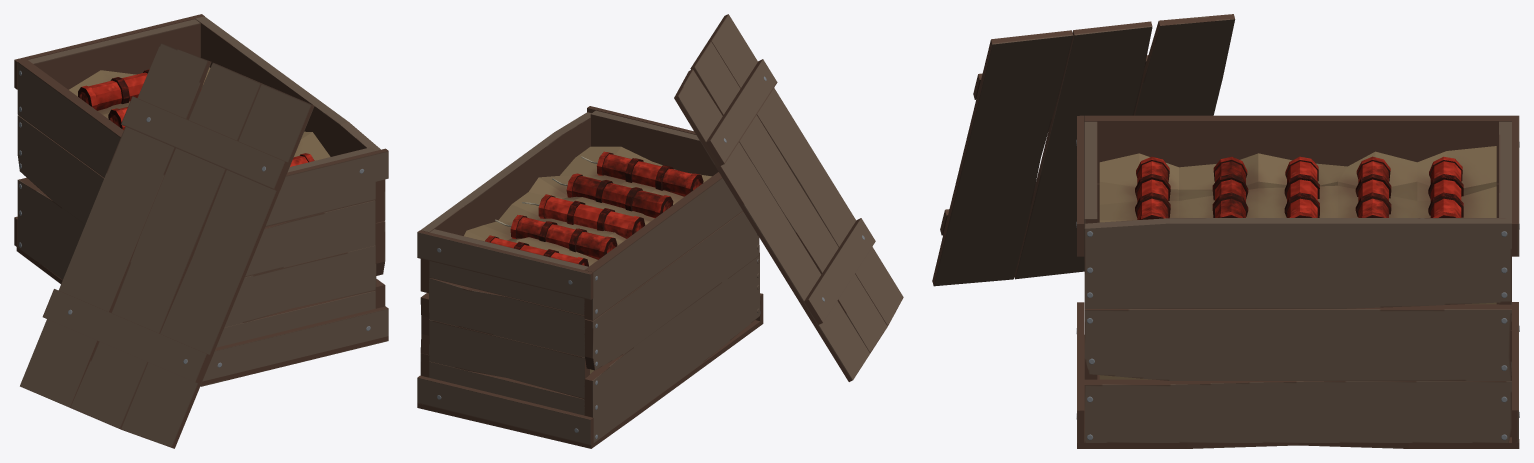
The model's file is Crate_LidPropped.fbx.
3 renders of one model, left to right at view 1: azimuth 30°, elevation 25°; view 2: azimuth 150°, elevation 25°; view 3: azimuth 270°, elevation 25°, orthographic. The views are drawn at different scales.
Visible parts, largest first — view 1: Lid.001, Side_02.003, Side_03.003, Side_01.003, Side_04.003, TNT.002, Hay.003, Crate.003; view 2: Lid.001, Side_04.003, Side_03.003, Side_01.003, Hay.003, Side_02.003, polySurface18.014, polySurface18.013, polySurface18.012, polySurface18.011, Crate.003, TNT.002; view 3: Side_01.003, Lid.001, Side_03.003, Hay.003, Side_02.003, Side_04.003, Crate.003, polySurface18.014, polySurface18.013, TNT.002, polySurface18.012, polySurface18.011.
Part boxes in pixels (x1=…): Lid.001: x1=20, y1=43, x2=314, y2=448; Side_02.003: x1=202, y1=147, x2=388, y2=381; Side_03.003: x1=17, y1=59, x2=123, y2=279; Side_01.003: x1=195, y1=16, x2=385, y2=308; Side_04.003: x1=14, y1=14, x2=204, y2=247; TNT.002: x1=78, y1=69, x2=149, y2=110; Hay.003: x1=69, y1=67, x2=330, y2=160; Crate.003: x1=16, y1=247, x2=388, y2=386; Lid.001: x1=674, y1=14, x2=903, y2=381; Side_04.003: x1=417, y1=229, x2=593, y2=445; Side_03.003: x1=584, y1=172, x2=759, y2=442; Side_01.003: x1=420, y1=112, x2=591, y2=377; Hay.003: x1=464, y1=146, x2=711, y2=373; Side_02.003: x1=587, y1=106, x2=763, y2=321; polySurface18.014: x1=581, y1=151, x2=703, y2=196; polySurface18.013: x1=552, y1=173, x2=673, y2=218; polySurface18.012: x1=522, y1=194, x2=645, y2=238; polySurface18.011: x1=495, y1=215, x2=617, y2=259; Crate.003: x1=417, y1=320, x2=763, y2=448; TNT.002: x1=485, y1=235, x2=588, y2=266; Side_01.003: x1=1084, y1=218, x2=1511, y2=442; Lid.001: x1=932, y1=14, x2=1235, y2=286; Side_03.003: x1=1084, y1=115, x2=1511, y2=304; Hay.003: x1=1099, y1=146, x2=1496, y2=379; Side_02.003: x1=1076, y1=115, x2=1097, y2=442; Side_04.003: x1=1499, y1=115, x2=1519, y2=442; Crate.003: x1=1077, y1=335, x2=1519, y2=448; polySurface18.014: x1=1135, y1=156, x2=1170, y2=219; polySurface18.013: x1=1212, y1=156, x2=1248, y2=217; TNT.002: x1=1428, y1=156, x2=1463, y2=217; polySurface18.012: x1=1284, y1=156, x2=1319, y2=217; polySurface18.011: x1=1355, y1=156, x2=1391, y2=217.
Bounding box in the file's own units: 125 × 106 × 164.
